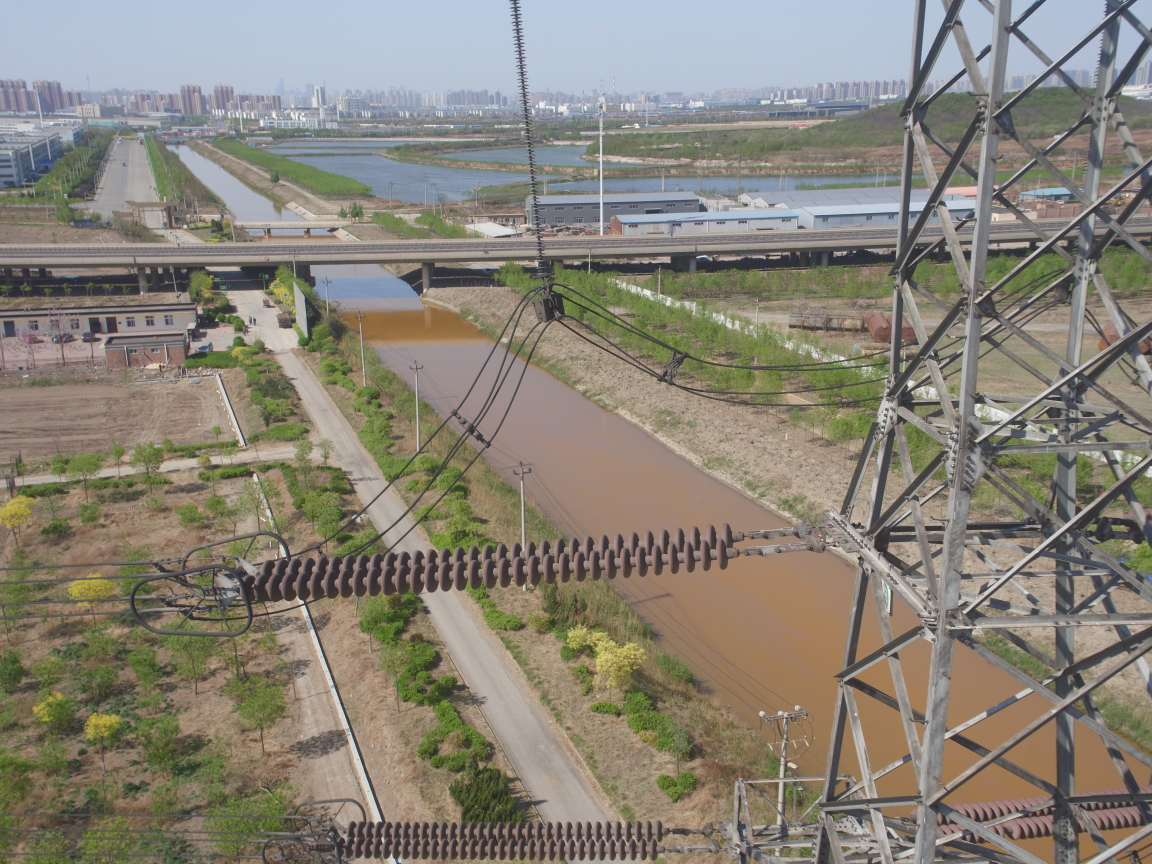insulator: (237, 519, 768, 605), (331, 817, 678, 862), (909, 789, 1152, 842)
